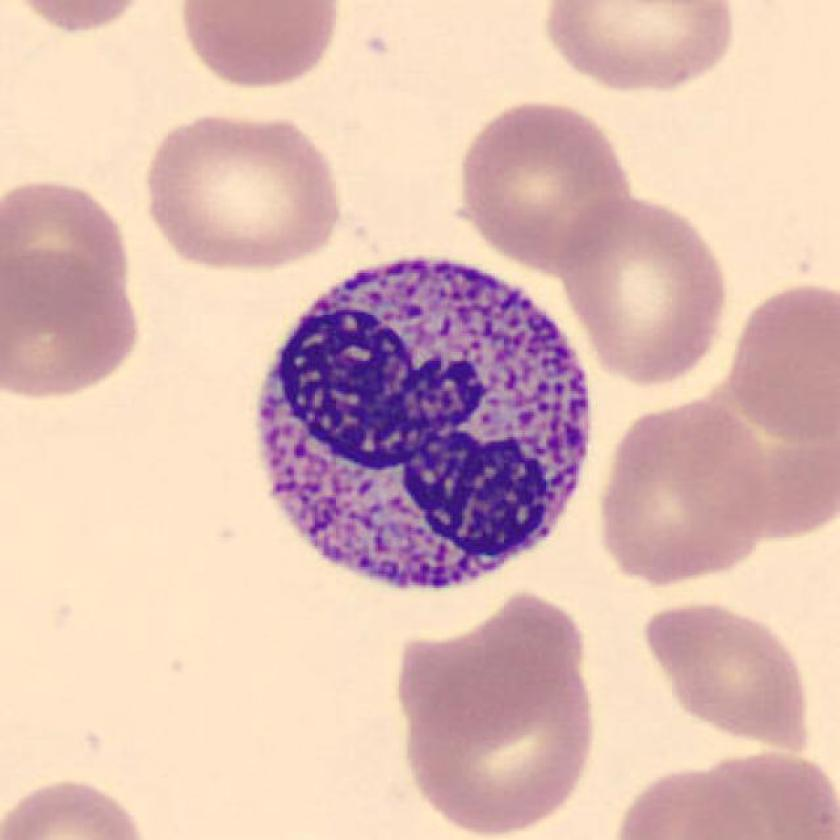neutrophil: (264, 261, 592, 585)
